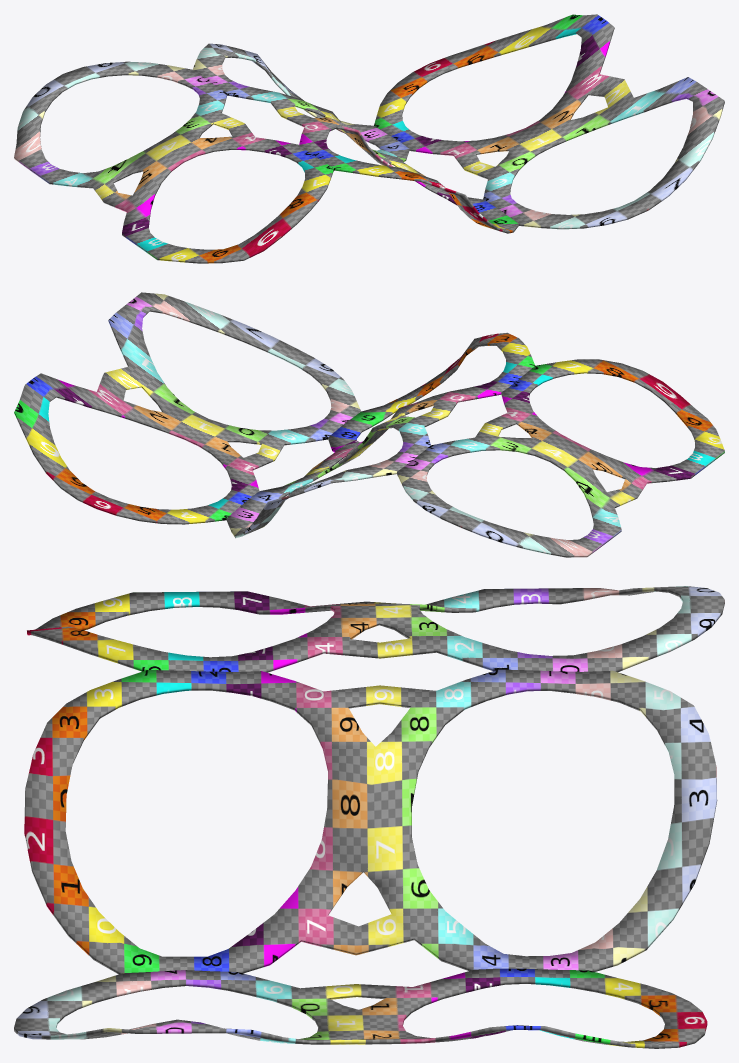
Rendered from sixpack3.fbx.
The picture shows the model from 3 angles, top to bottom: view 1: azimuth 30°, elevation 25°; view 2: azimuth 150°, elevation 25°; view 3: azimuth 270°, elevation 25°; orthographic projection. The views are drawn at different scales.
Visible parts, largest first — view 1: Six pack 1.001; view 2: Six pack 1.001; view 3: Six pack 1.001.
Part boxes in pixels (left/top/right/bottom): Six pack 1.001: left=14, top=14, right=724, bottom=263; Six pack 1.001: left=14, top=292, right=724, bottom=557; Six pack 1.001: left=14, top=586, right=724, bottom=1048.
Bounding box in the file's own units: 580 × 95.36 × 369.
